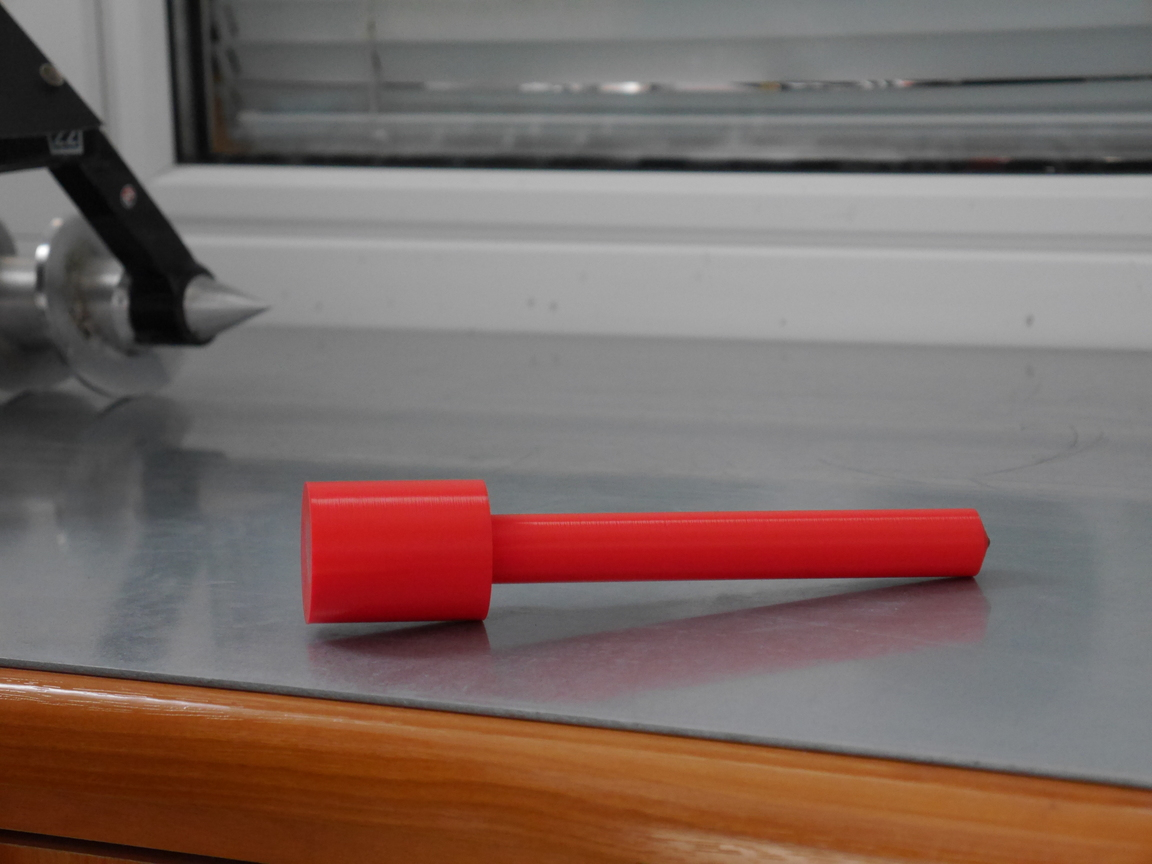cargo_g: (299, 479, 990, 628)
